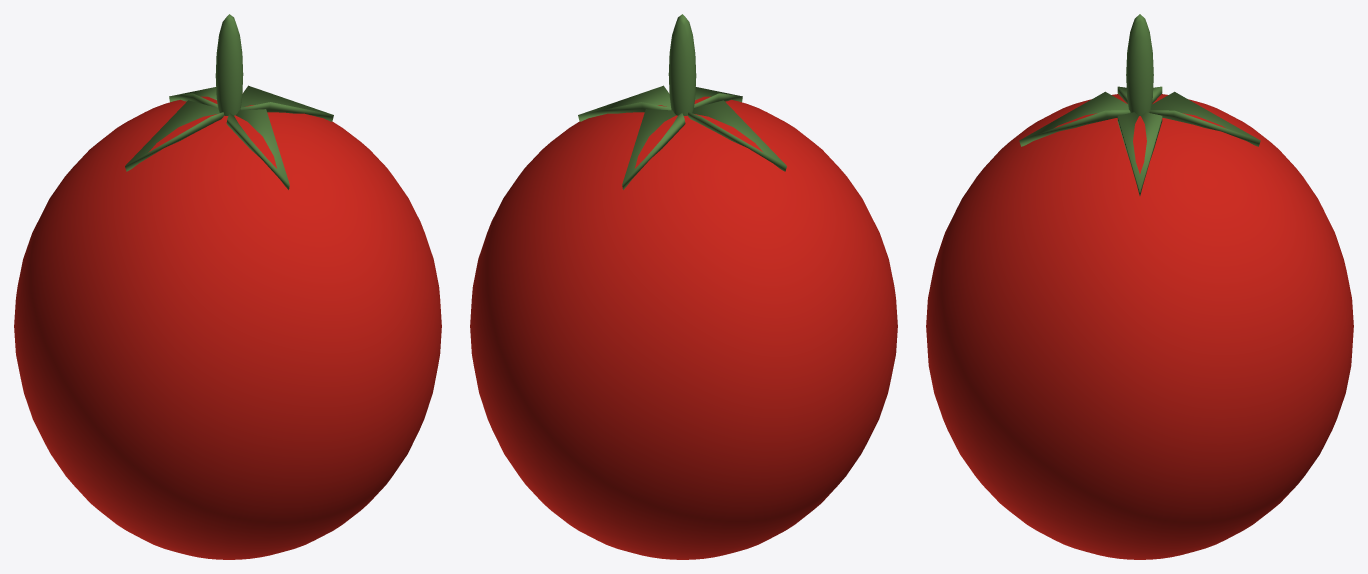
File: cherry.glb
The picture shows the model from 3 angles, left to right: view 1: azimuth 30°, elevation 25°; view 2: azimuth 150°, elevation 25°; view 3: azimuth 270°, elevation 25°; orthographic projection.
Parts seen in each view (by area): view 1: Cherry, Stem, Calyx leaf.002, Calyx leaf.001, Calyx leaf, Calyx leaf.003; view 2: Cherry, Stem, Calyx leaf.002, Calyx leaf.003, Calyx leaf, Calyx leaf.001; view 3: Cherry, Stem, Calyx leaf.001, Calyx leaf.003, Calyx leaf.
Part boxes in pixels (<box>): Cherry: <box>14,96,441,559</box>; Stem: <box>215,14,243,115</box>; Calyx leaf.002: <box>125,100,224,171</box>; Calyx leaf.001: <box>226,109,289,189</box>; Calyx leaf: <box>240,85,333,121</box>; Calyx leaf.003: <box>169,87,217,107</box>; Cherry: <box>470,96,897,559</box>; Stem: <box>668,14,696,115</box>; Calyx leaf.002: <box>687,100,786,171</box>; Calyx leaf.003: <box>622,109,685,189</box>; Calyx leaf: <box>578,85,671,121</box>; Calyx leaf.001: <box>694,87,742,107</box>; Cherry: <box>926,94,1353,559</box>; Stem: <box>1126,14,1153,115</box>; Calyx leaf.001: <box>1019,91,1130,146</box>; Calyx leaf.003: <box>1149,91,1260,146</box>; Calyx leaf: <box>1117,112,1162,195</box>.
Bounding box in the file's own units: 1.08 × 1.47 × 1.08.
